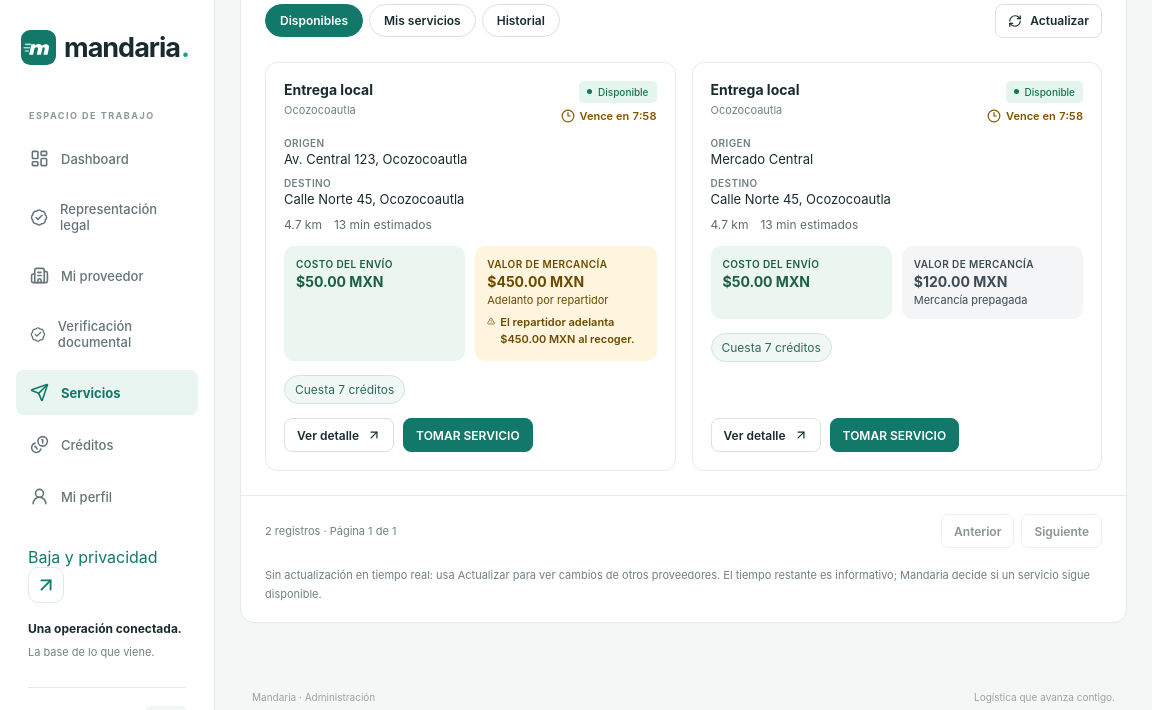
Scenario: claim › explains a lost race (409) and refreshes the list
The width and height of the screenshot is (1152, 710).
(page scrolled)
Expected: the text "Av. Central 123, Ocozocoautla" is shown, [284, 151, 467, 167]
What coordinates should you click on to do the following:
click the button "TOMAR SERVICIO" below "Adelanto por repartidor"
I would click on:
 (468, 435)
Its box is [403, 418, 533, 452].
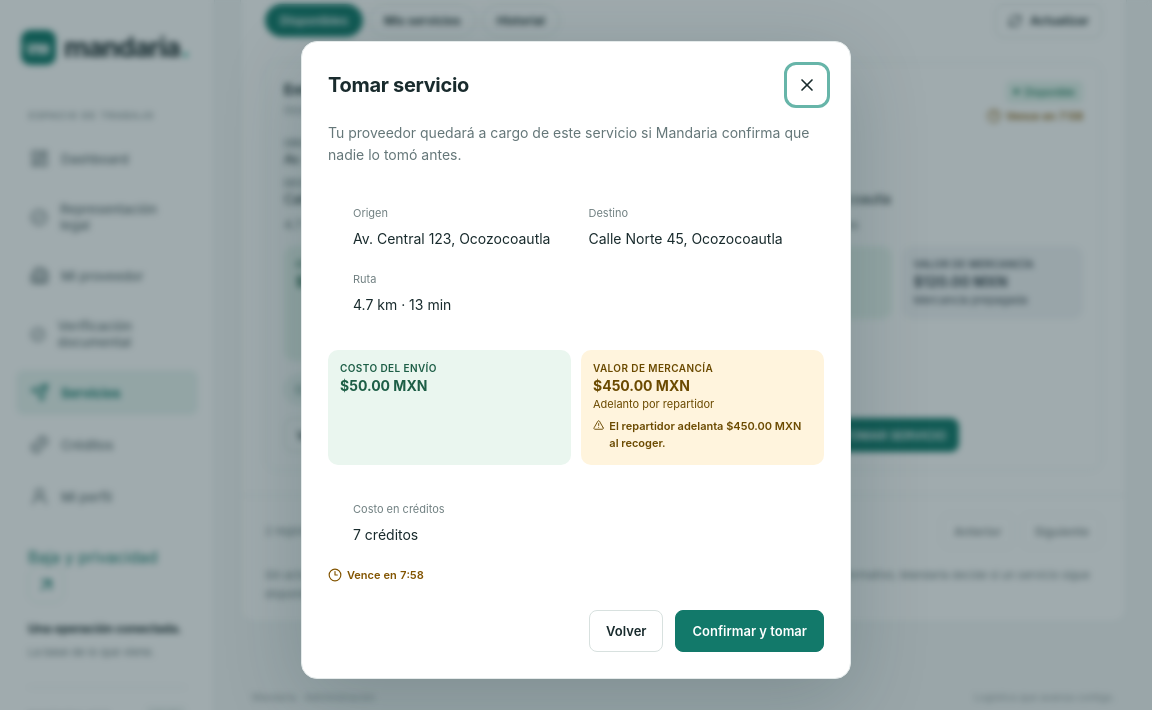
What coordinates should you click on to do the following:
click the button "Confirmar y tomar"
I would click on:
 (750, 631)
Its box is [676, 610, 824, 652].
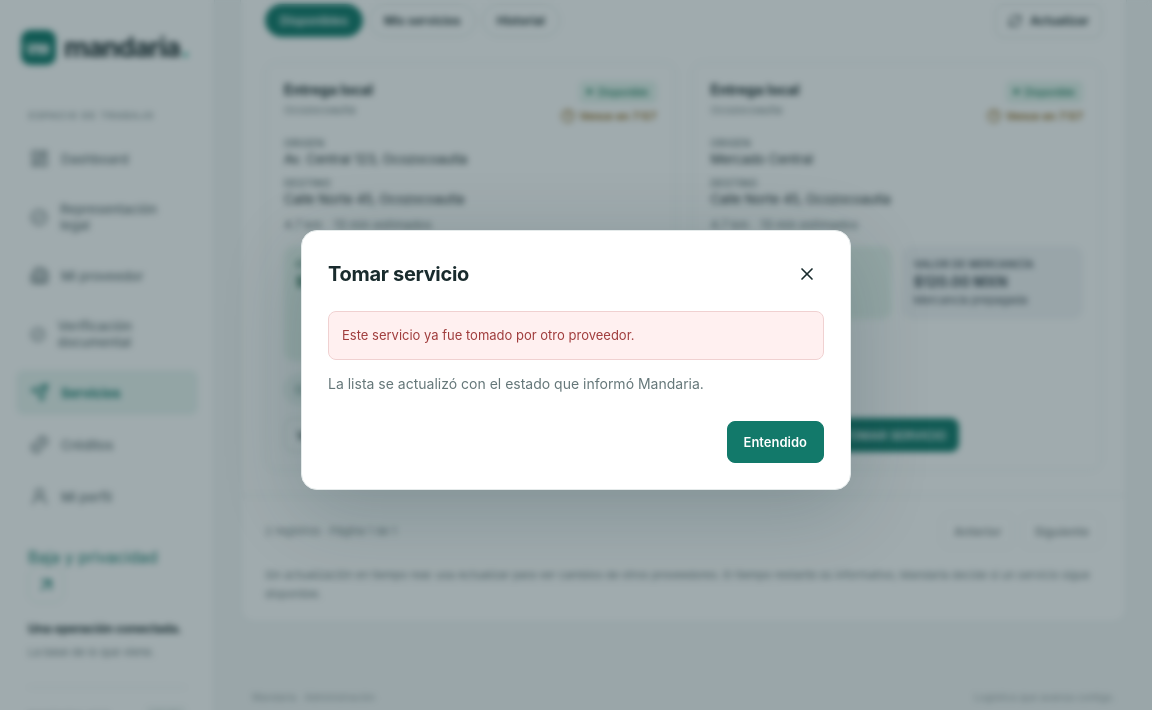
Expected: the dialog does not show "already claimed", [301, 230, 851, 490]
Result: the message reads "Este servicio ya fue tomado por otro proveedor." at [342, 327, 634, 343]
What coordinates should you click on to do the following:
click the button "Entendido"
I would click on:
 (775, 442)
Its box is [726, 421, 824, 463].
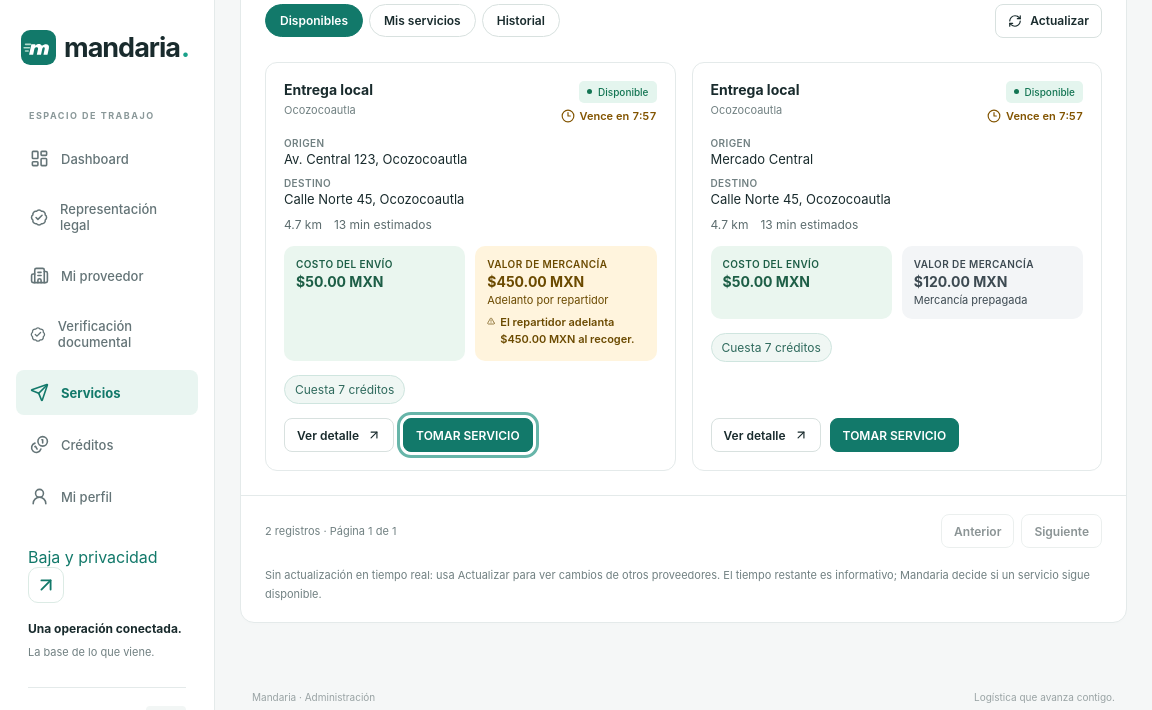
Result: the dialog is gone
